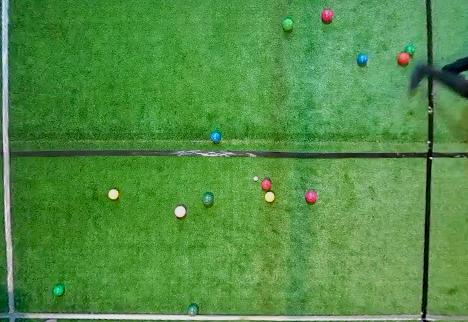blue: (210, 132, 221, 143), (357, 54, 368, 65)
green: (281, 18, 294, 31), (202, 193, 214, 206), (53, 284, 64, 296), (187, 304, 198, 316), (405, 45, 415, 55)
red: (321, 9, 333, 23), (305, 190, 317, 203), (397, 53, 409, 65), (174, 205, 186, 217), (261, 179, 271, 190)
vline: (421, 76, 468, 321), (0, 1, 19, 321), (425, 1, 467, 63)
white: (253, 176, 258, 182)
yellow: (108, 189, 119, 200), (265, 192, 275, 202)
